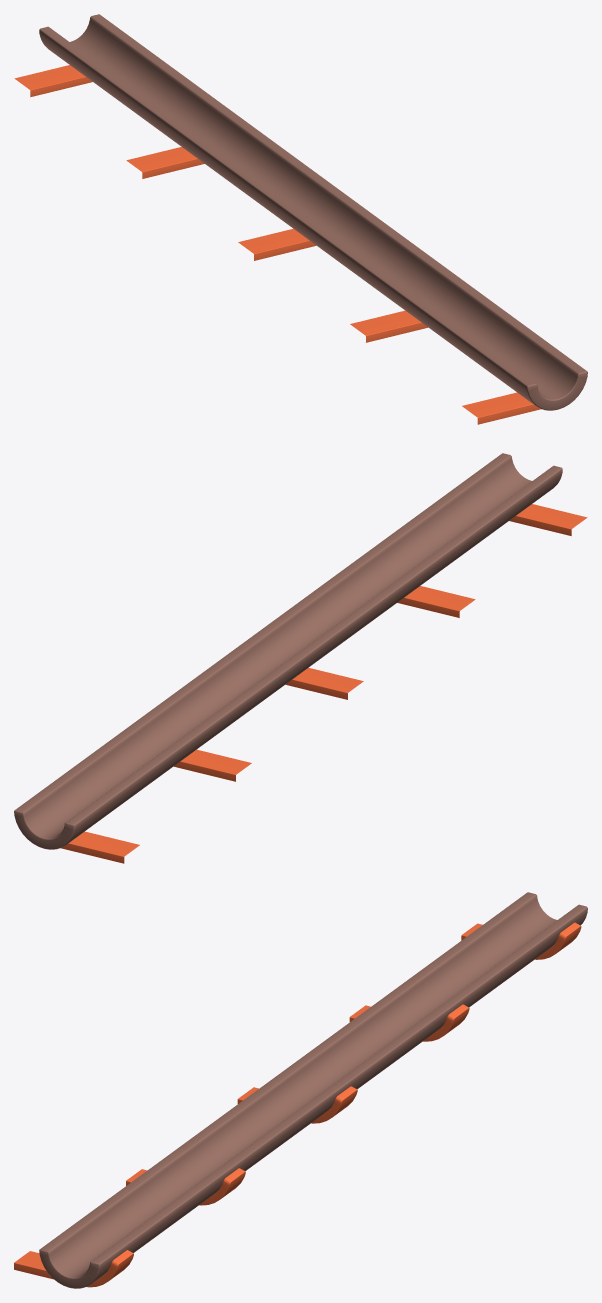
File: City_12_Gutter_1.glb
The picture shows the model from 3 angles, top to bottom: view 1: azimuth 30°, elevation 25°; view 2: azimuth 150°, elevation 25°; view 3: azimuth 330°, elevation 25°; orthographic projection.
Parts seen in each view (by area): view 1: City_12_Gutter_1; view 2: City_12_Gutter_1; view 3: City_12_Gutter_1.
Boxes of the visible parts, bbox=[...] form: City_12_Gutter_1: bbox=[14, 14, 587, 424]; City_12_Gutter_1: bbox=[14, 453, 587, 863]; City_12_Gutter_1: bbox=[14, 892, 587, 1288].
Size of the model in its own units: 0.6246 by 0.2228 by 5.06.
1 material, 1 textured.
